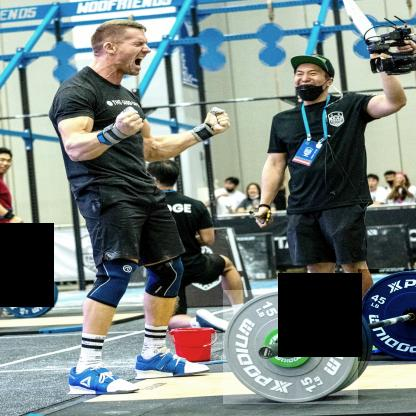barbell: (224, 291, 359, 405), (359, 270, 416, 362)
